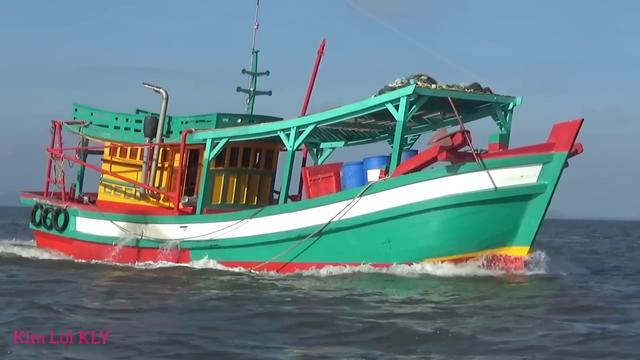Ship: (20, 85, 587, 288)
